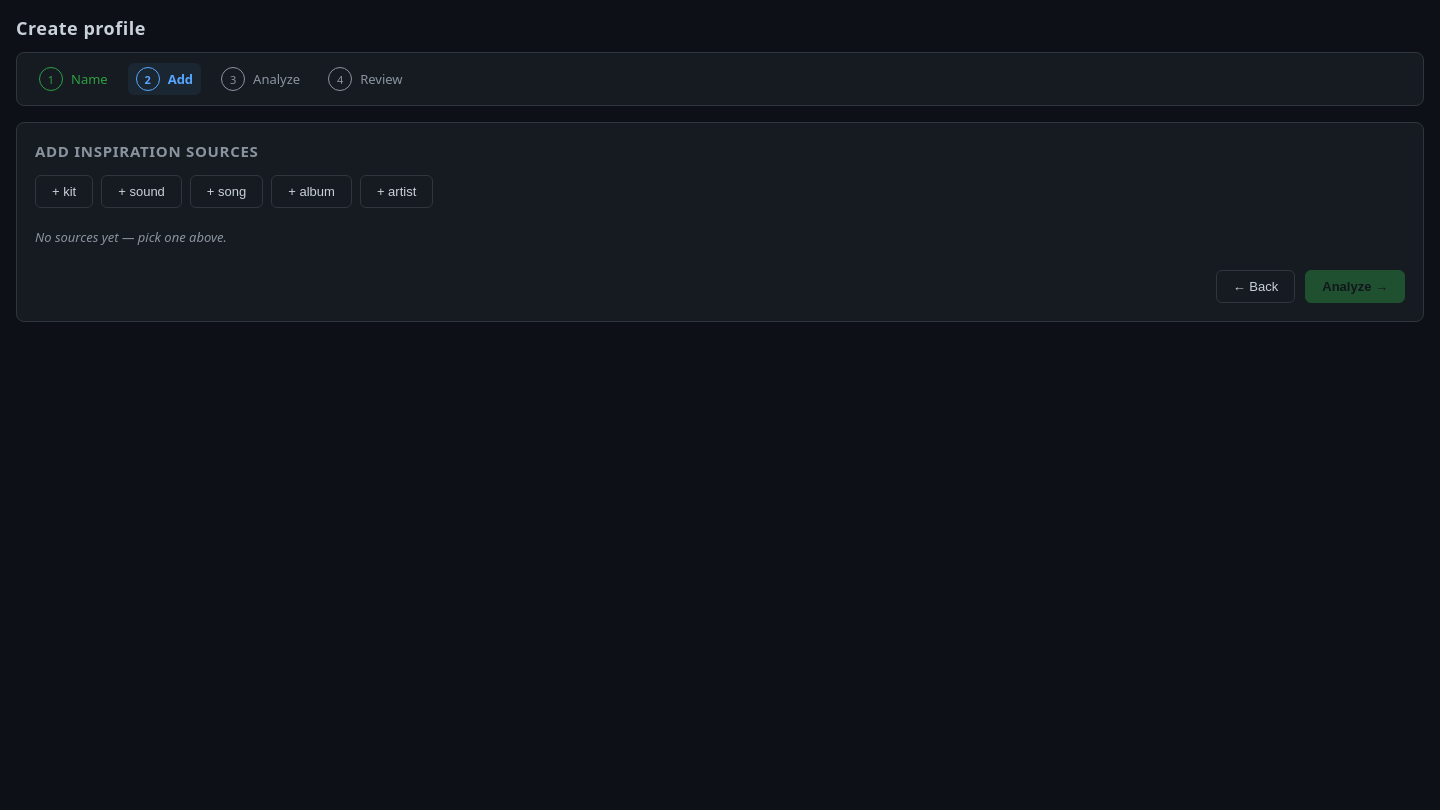
Test: Wizard container — step handlers › AddStep keeps the draft open and surfaces a rejected add-source ack
Click the button with test id "wizard-add-song" at (226, 192), box left=190, top=175, right=263, bottom=208
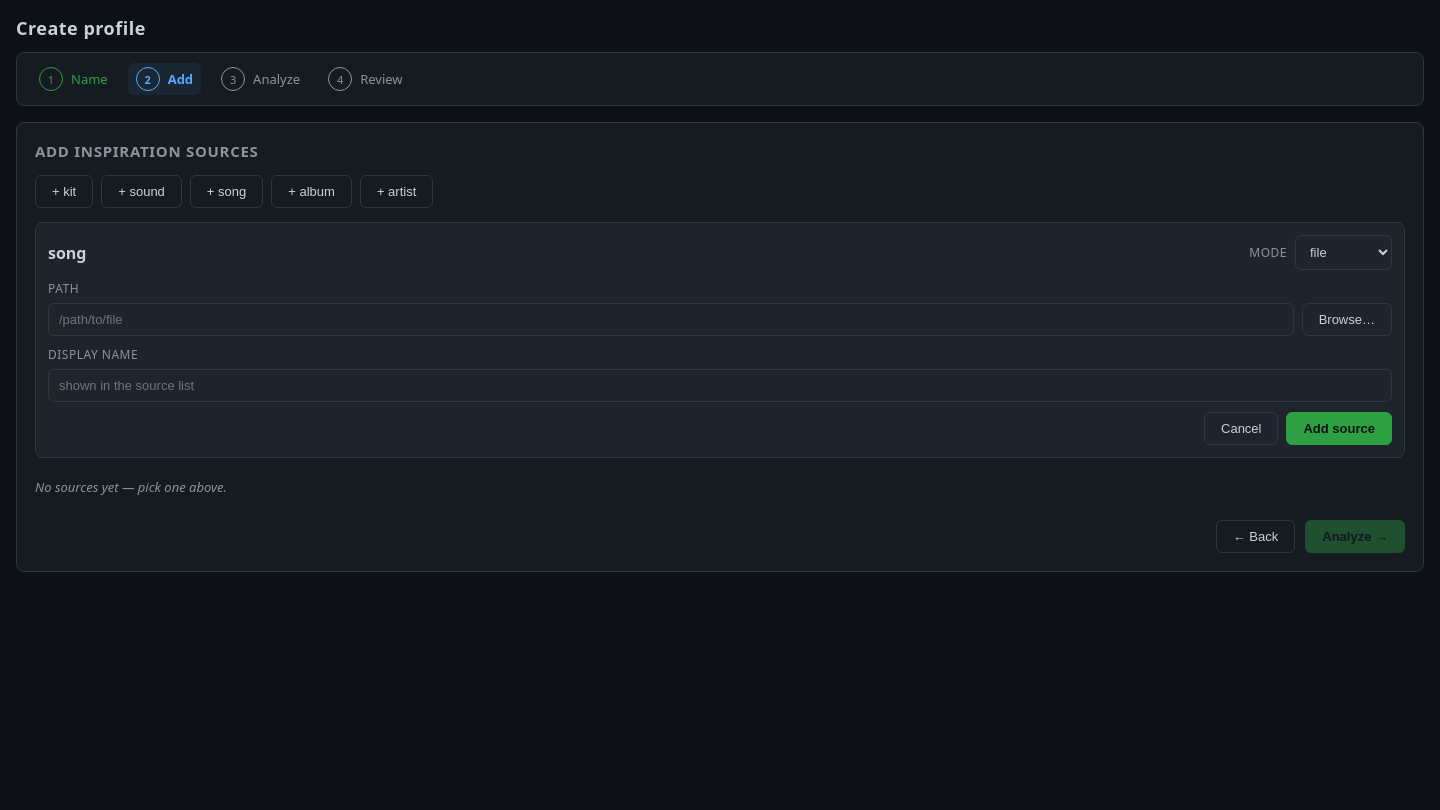
Type "C:\\Users\\Jose Buzzi\\Downloads\\The Bells.wav" into the field with test id "wizard-draft-location" at (671, 320), box left=48, top=303, right=1294, bottom=336
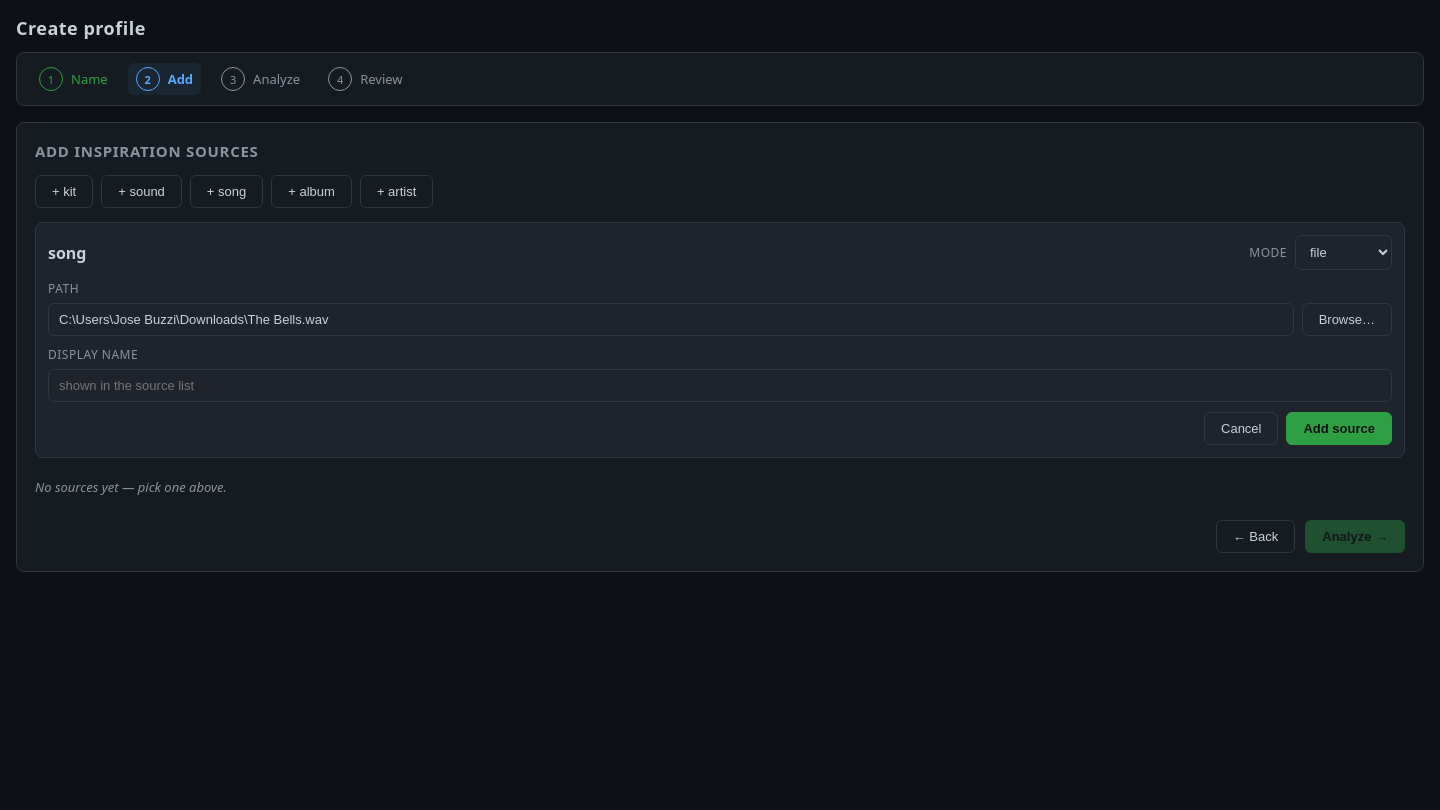
Type "The Bells" into the field with test id "wizard-draft-display-name" at (720, 386), box left=48, top=369, right=1392, bottom=402
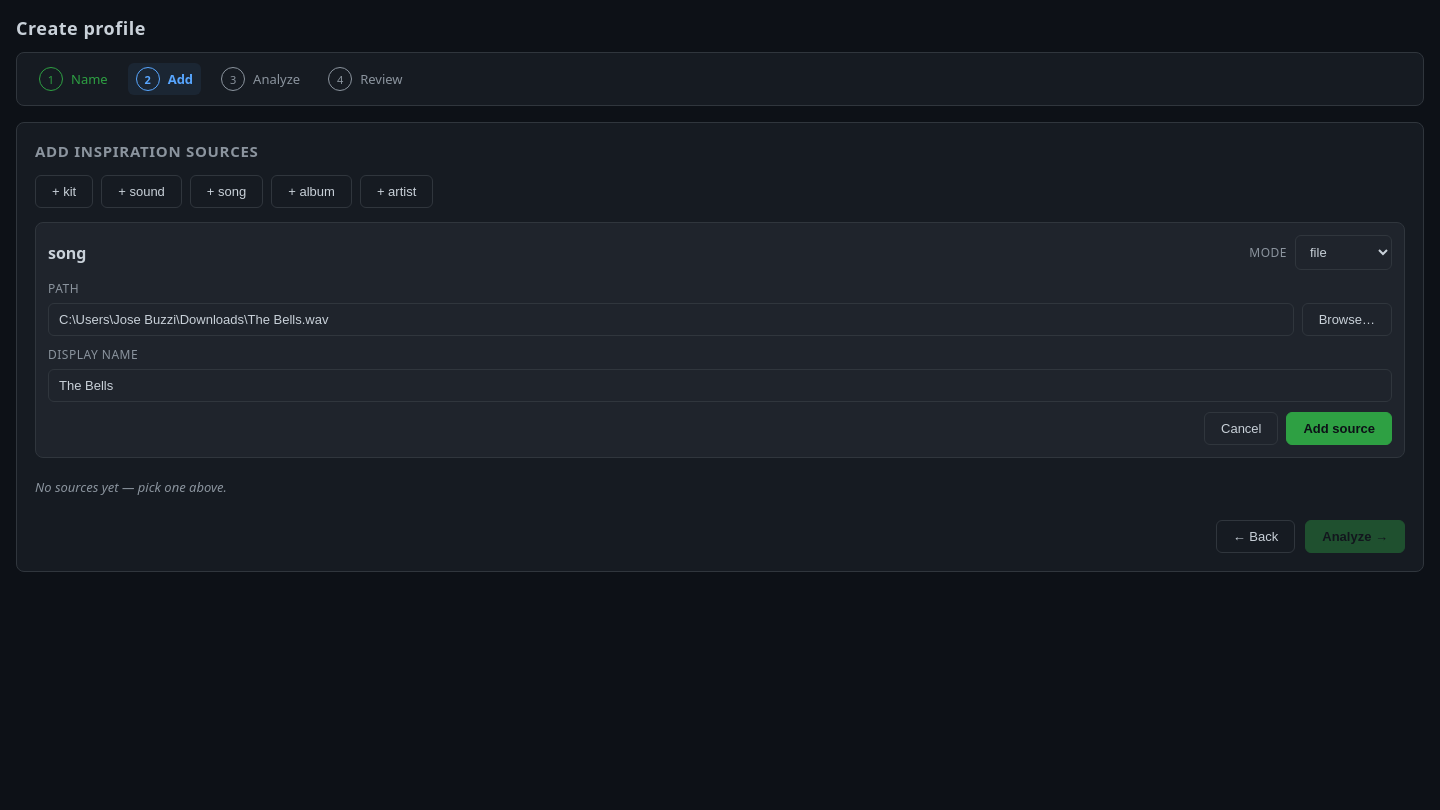
Click the button with test id "wizard-draft-confirm" at (1339, 428), box left=1286, top=412, right=1392, bottom=445
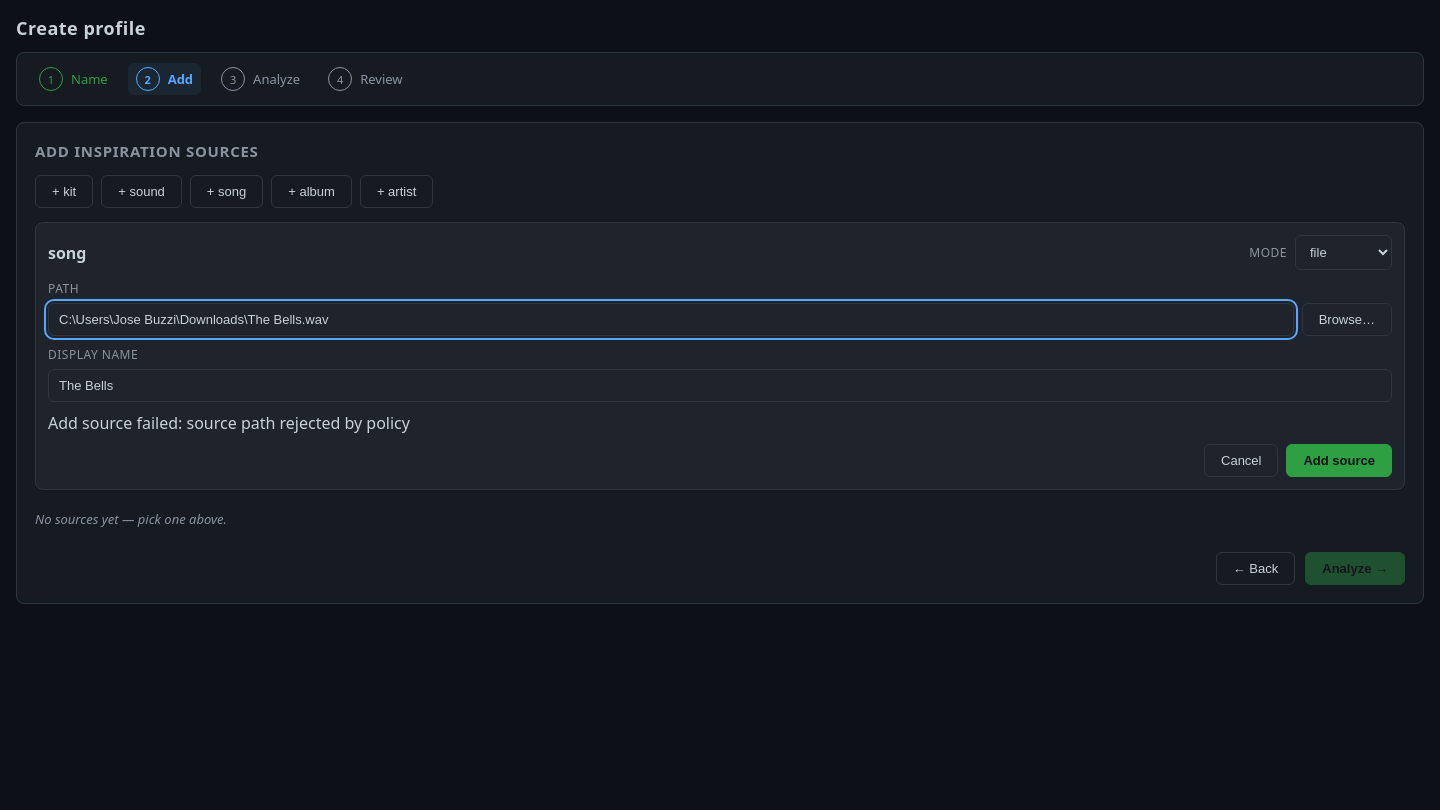
Expected: the element with test id "wizard-draft" is shown, left=35, top=222, right=1405, bottom=490
Expected: the message shows "source path rejected by policy", left=48, top=412, right=410, bottom=434
